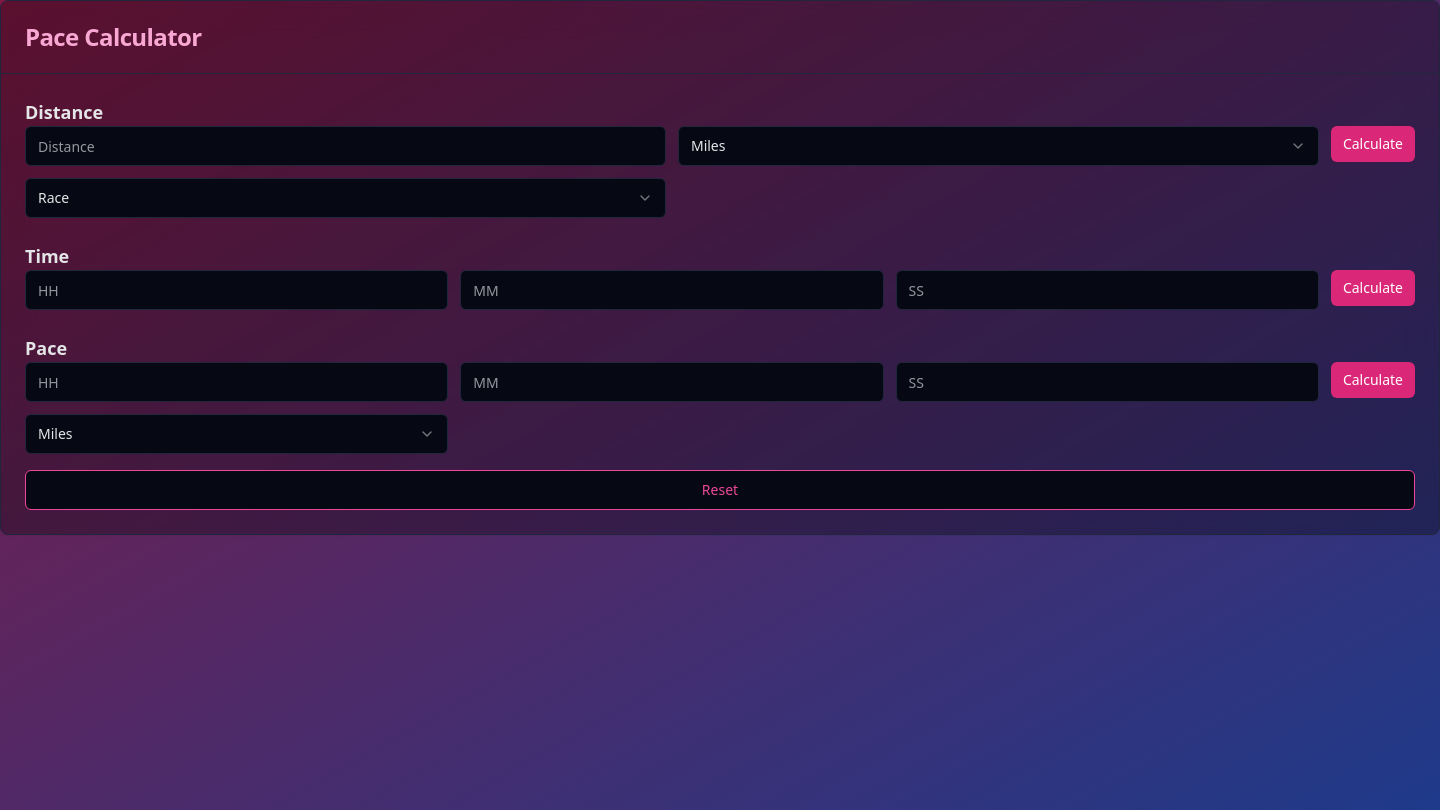
Test: Calculator › calculates distance
Set time to 10 minutes, pace to 5 minutes, and calculate distance
Step 1. Type "10" into the 1st number field with placeholder "MM" → (672,290), box [460,270,884,310]
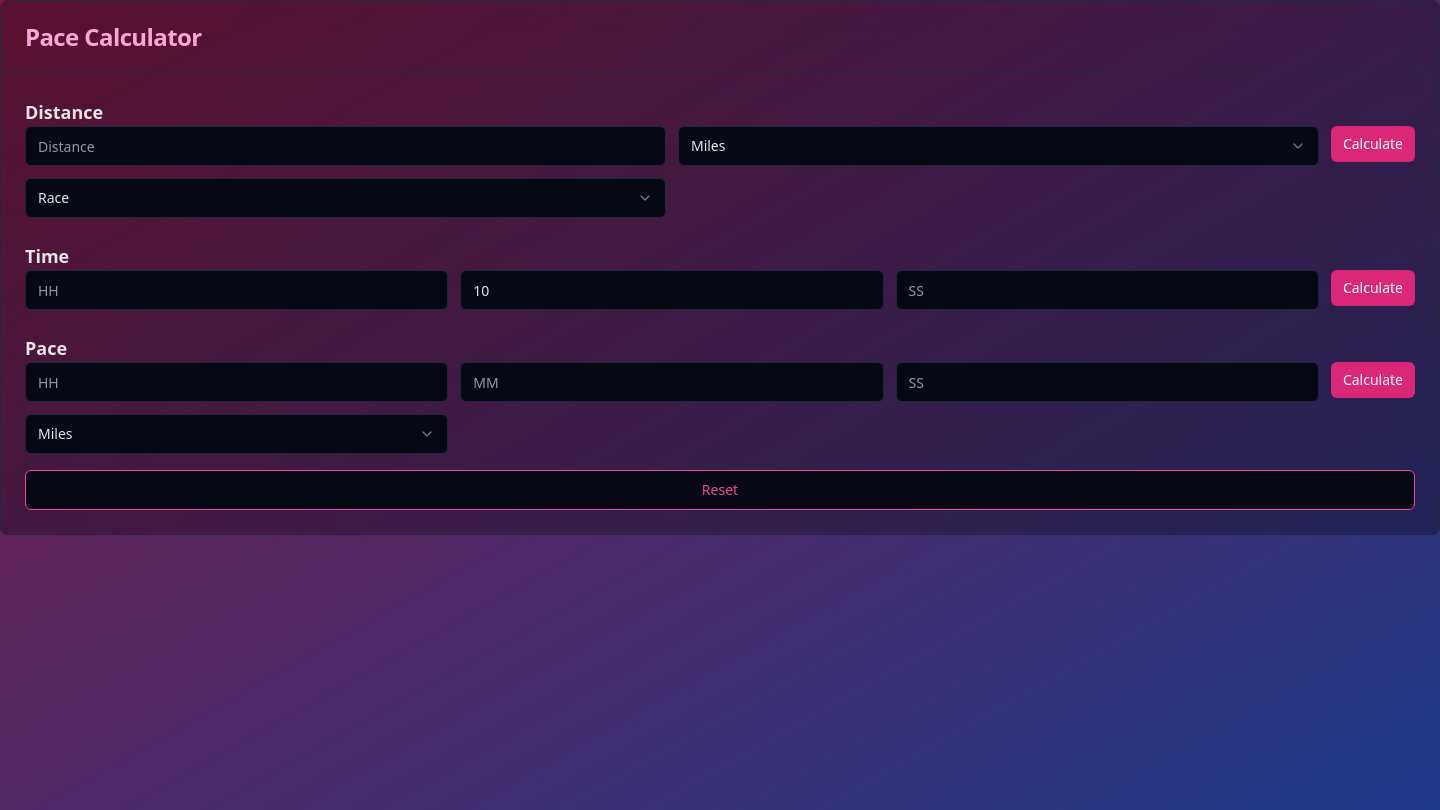
Step 2. Type "5" into the number field with placeholder "MM" → (672,382), box [460,362,884,402]
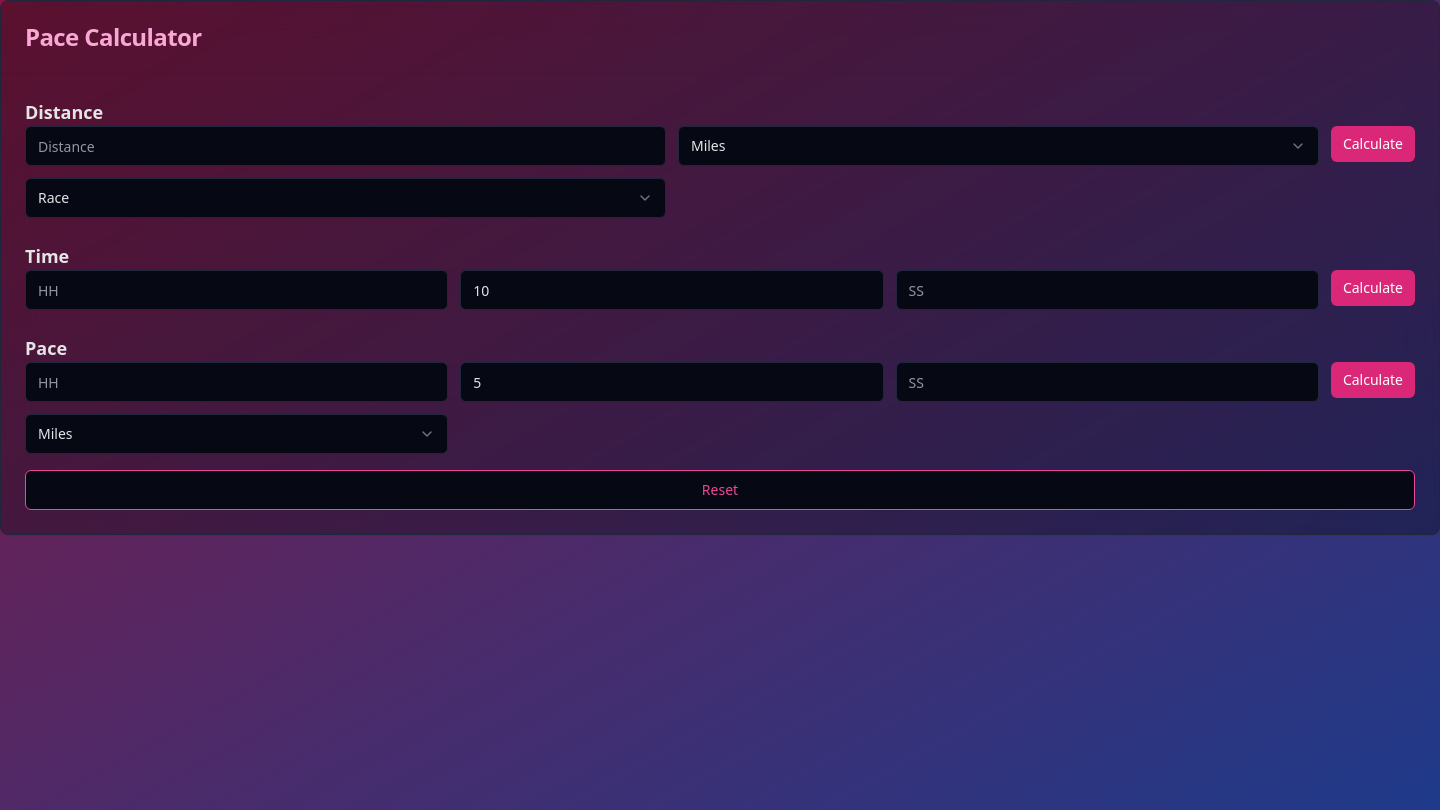
Step 3. Click the 1st button "Calculate" → (1373,144), box [1331,126,1415,162]
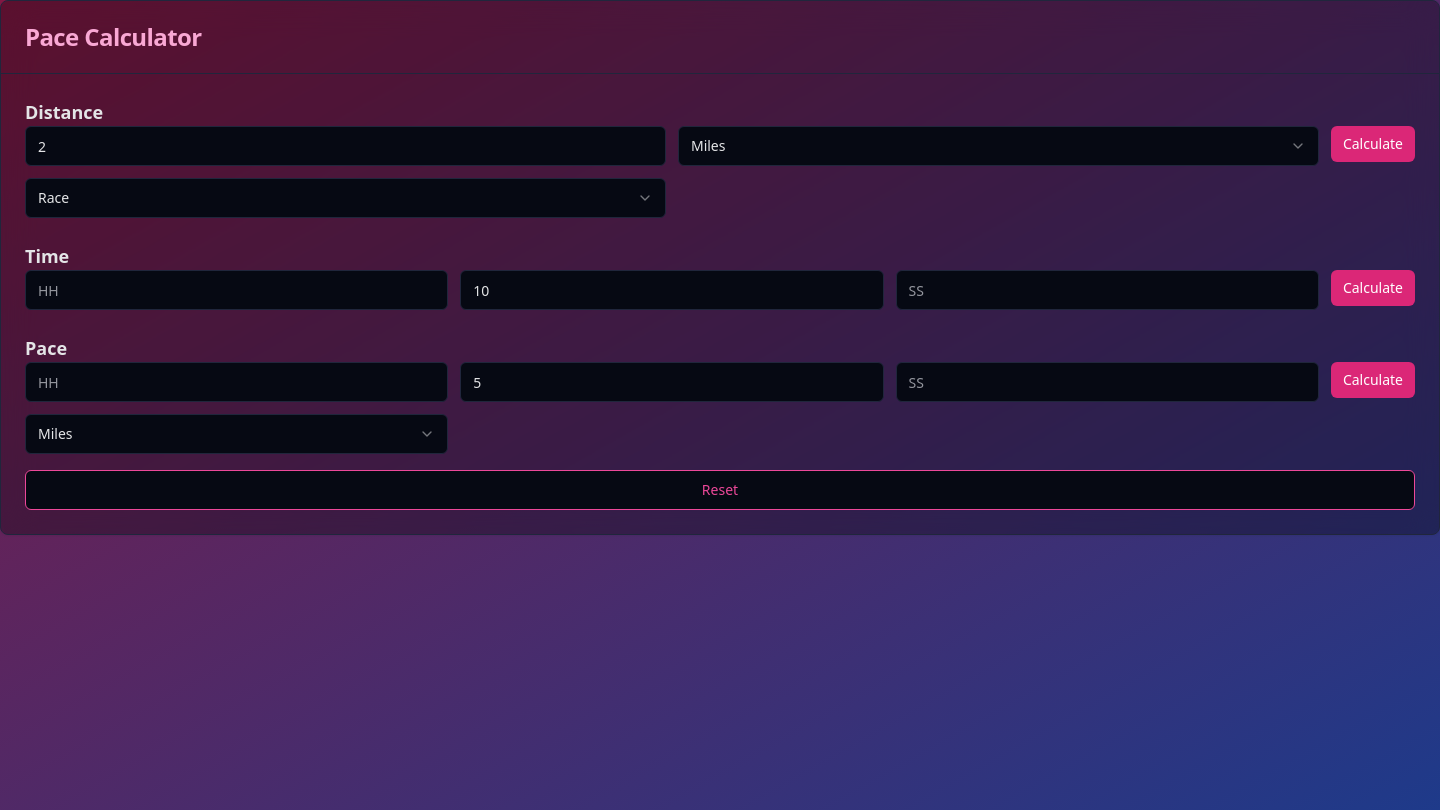
Check: the number field with placeholder "Distance" below "Distance" holds "2", box [25,126,666,166]
